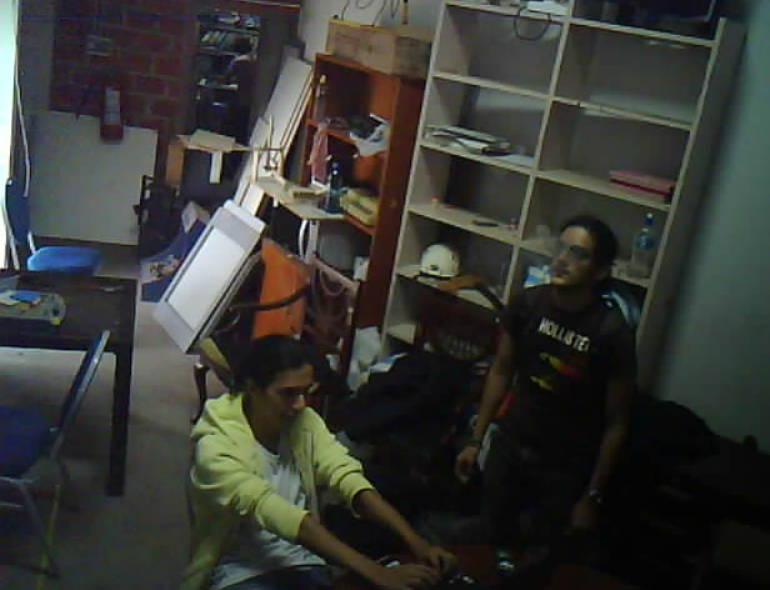person: (163, 313, 466, 590), (450, 188, 652, 575), (209, 29, 282, 143)
